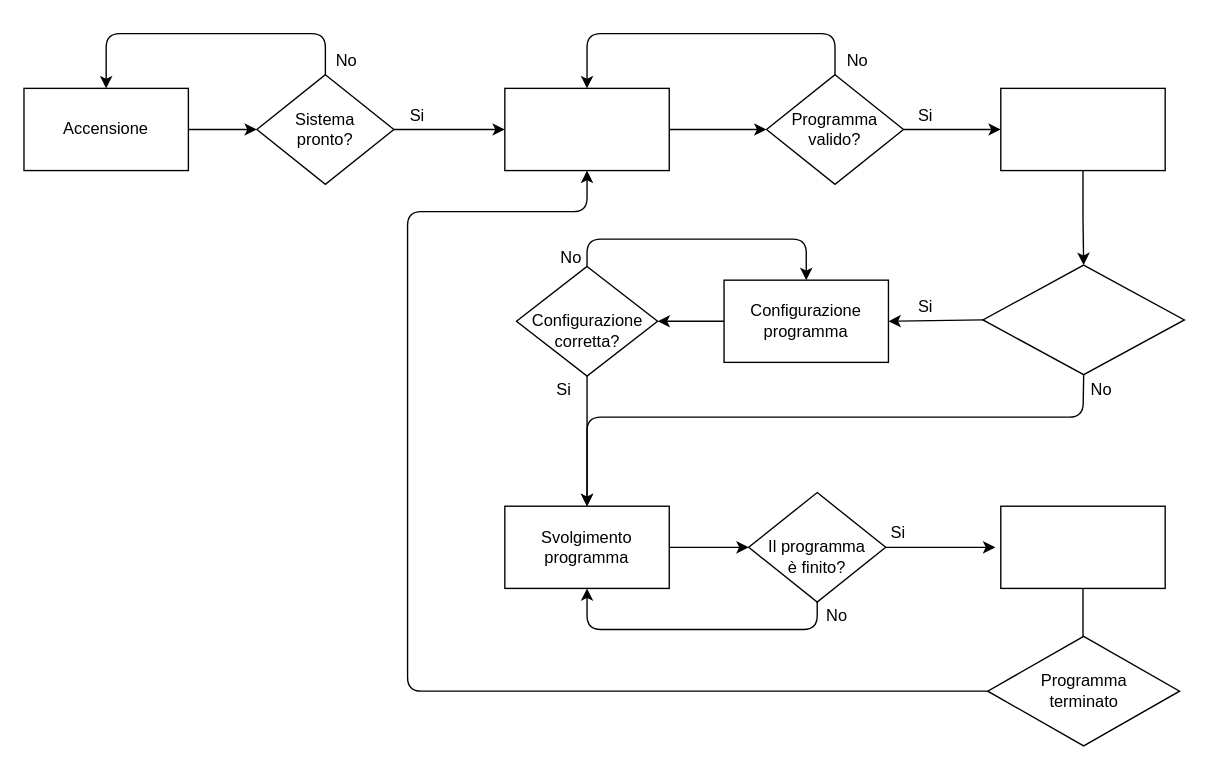
Image size: 1208x770. Some labels were removed from this diagram. The box of each missing label's shape, as (x1, y1, x2, y2) in pixels:
Esecuzione programma: (999, 87, 1165, 171)
Il programma necessita parametri?: (982, 264, 1184, 375)
Scelta programma: (503, 87, 669, 171)
Stampa risultato finale: (999, 505, 1165, 588)
